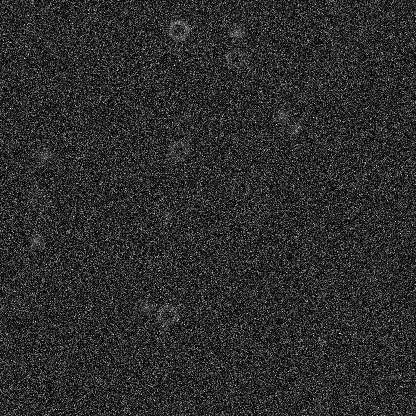Ring: (172, 111, 196, 135), (154, 303, 178, 327), (167, 138, 191, 162), (26, 188, 50, 212), (166, 17, 190, 41), (227, 176, 251, 200), (223, 45, 247, 69)
Spot: (22, 20, 38, 36), (158, 207, 174, 223), (36, 146, 52, 162), (274, 107, 290, 123), (41, 35, 57, 51), (138, 299, 154, 315), (286, 119, 302, 135), (349, 177, 365, 193), (27, 233, 43, 249), (229, 24, 245, 40)
